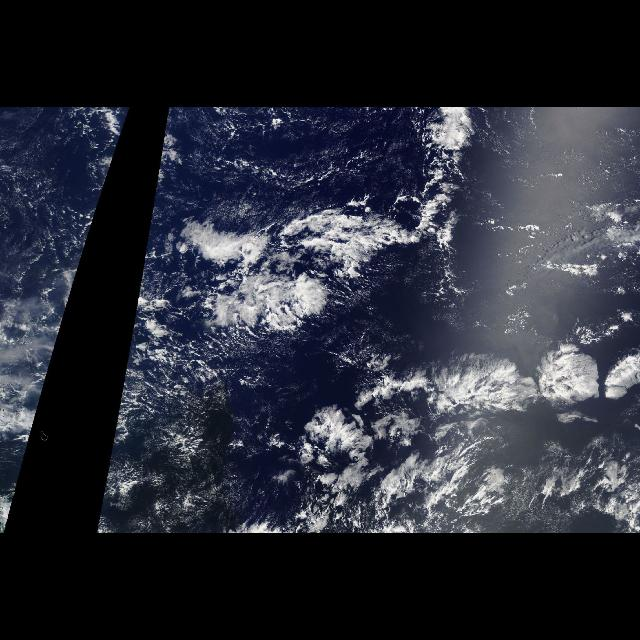Fish: (155, 111, 459, 363), (94, 110, 130, 190)
Flower: (530, 315, 640, 421)
Sugar: (110, 393, 266, 523)
